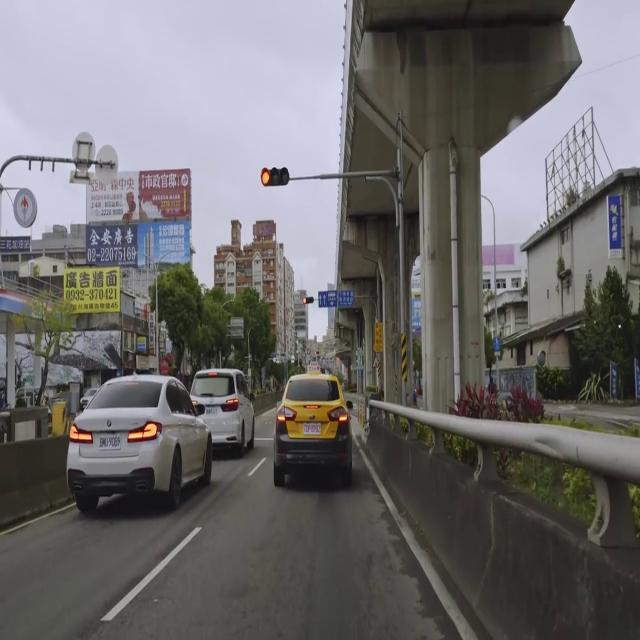red light: (260, 167, 290, 187), (302, 296, 314, 304)
